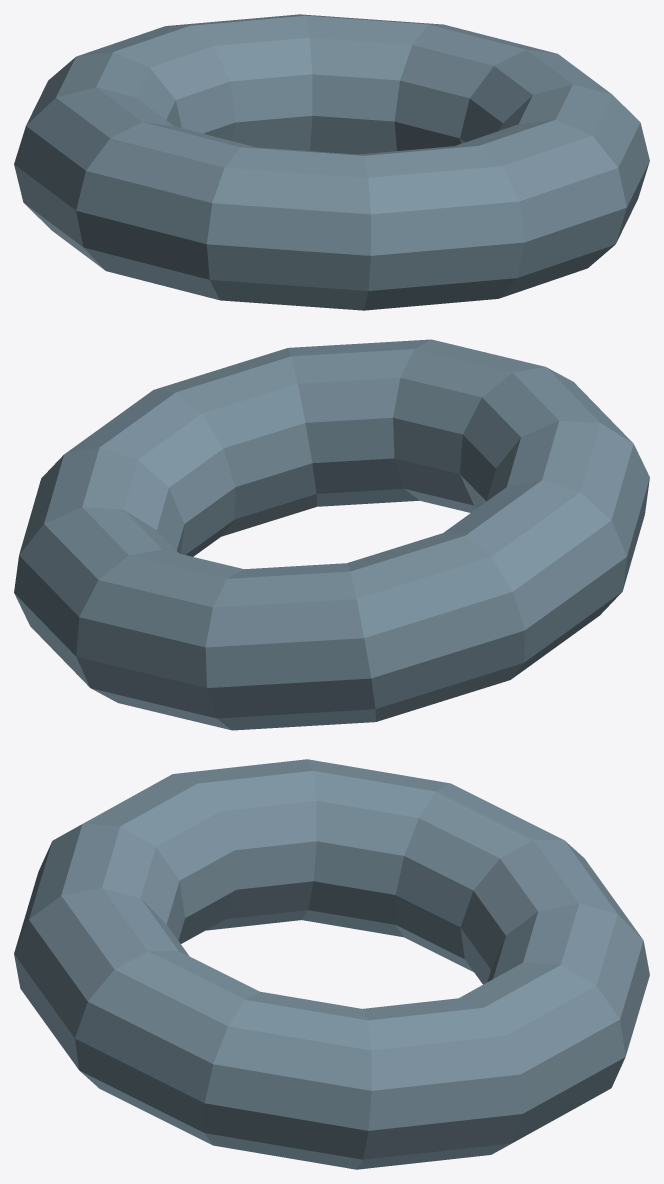
Rendered from astronaut_base_group1098147410_lev4.glb.
3 renders of one model, top to bottom at view 1: azimuth 30°, elevation 25°; view 2: azimuth 150°, elevation 25°; view 3: azimuth 270°, elevation 25°, orthographic.
Parts seen in each view (by area): view 1: astronaut_base_group1098147410_lev4; view 2: astronaut_base_group1098147410_lev4; view 3: astronaut_base_group1098147410_lev4.
Boxes of the visible parts, bbox=[...] form: astronaut_base_group1098147410_lev4: bbox=[14, 14, 649, 310]; astronaut_base_group1098147410_lev4: bbox=[14, 339, 649, 730]; astronaut_base_group1098147410_lev4: bbox=[14, 759, 649, 1169].
Bounding box in the file's own units: 0.5097 × 0.1828 × 0.5099.
